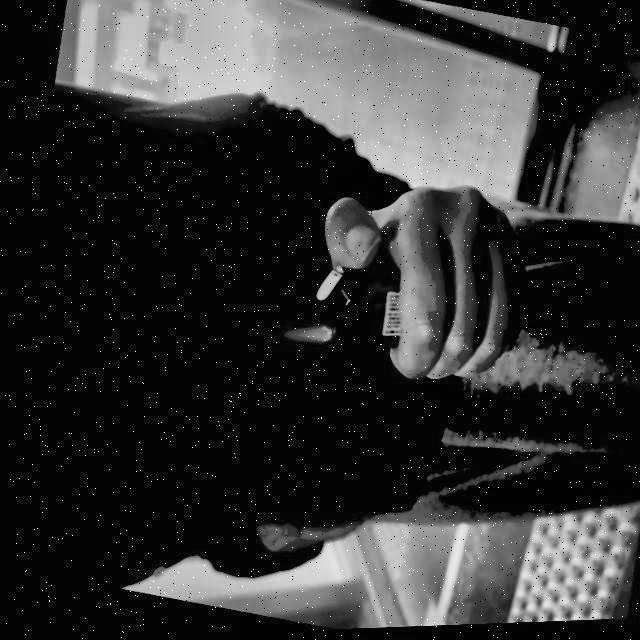Fire: (267, 309, 329, 354)
